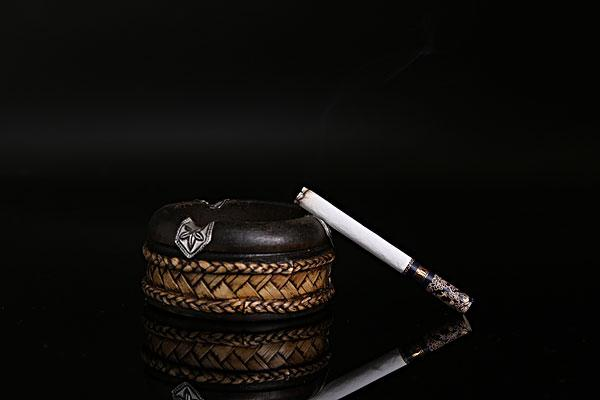smoke: (292, 185, 475, 315), (307, 315, 473, 400)
